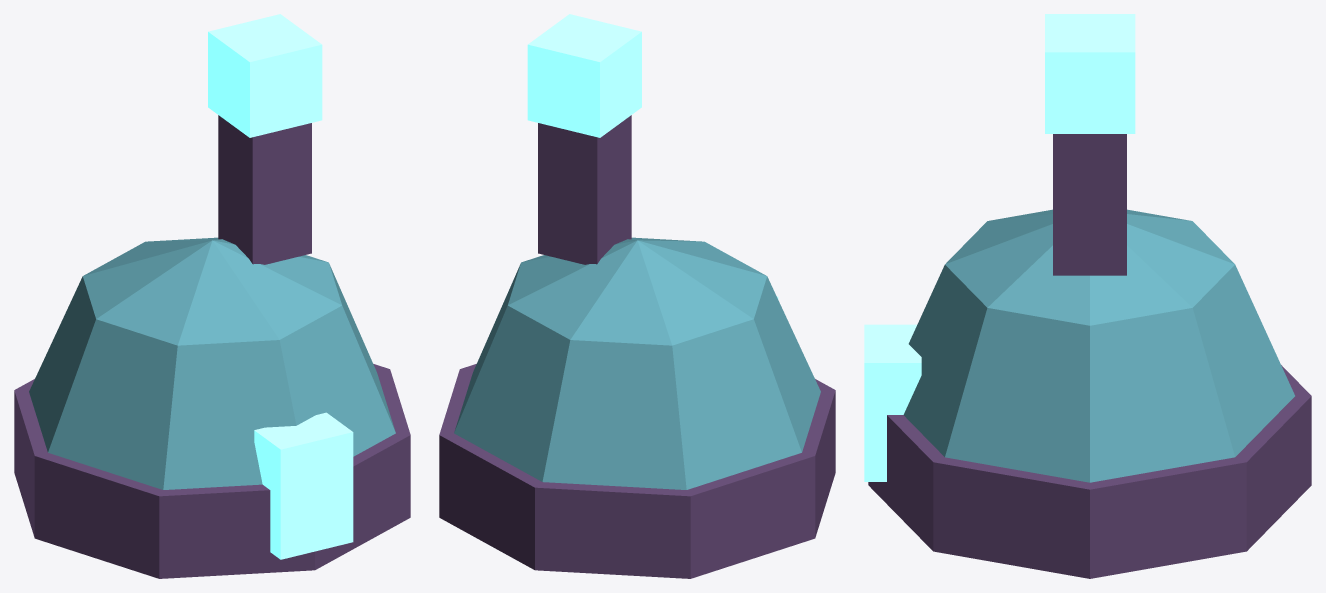
Rendered from dome.glb.
The picture shows the model from 3 angles, left to right: view 1: azimuth 30°, elevation 25°; view 2: azimuth 150°, elevation 25°; view 3: azimuth 270°, elevation 25°; orthographic projection. The views are drawn at different scales.
Parts seen in each view (by area): view 1: Dome, Ring, Mast, Beacon, Door; view 2: Dome, Ring, Mast, Beacon; view 3: Dome, Ring, Beacon, Mast, Door.
Boxes of the visible parts, x1,y1,x2,y2 form: Dome: (29, 237, 395, 489); Ring: (14, 364, 410, 578); Mast: (218, 115, 311, 264); Beacon: (208, 14, 322, 137); Door: (254, 412, 353, 559); Dome: (454, 237, 820, 489); Ring: (439, 364, 835, 578); Mast: (538, 115, 631, 264); Beacon: (527, 14, 641, 137); Dome: (903, 209, 1294, 482); Ring: (868, 365, 1311, 578); Beacon: (1045, 14, 1135, 133); Mast: (1053, 134, 1126, 275); Door: (864, 324, 921, 481).
Bounding box in the file's own units: 0.54 × 0.645 × 0.545.
